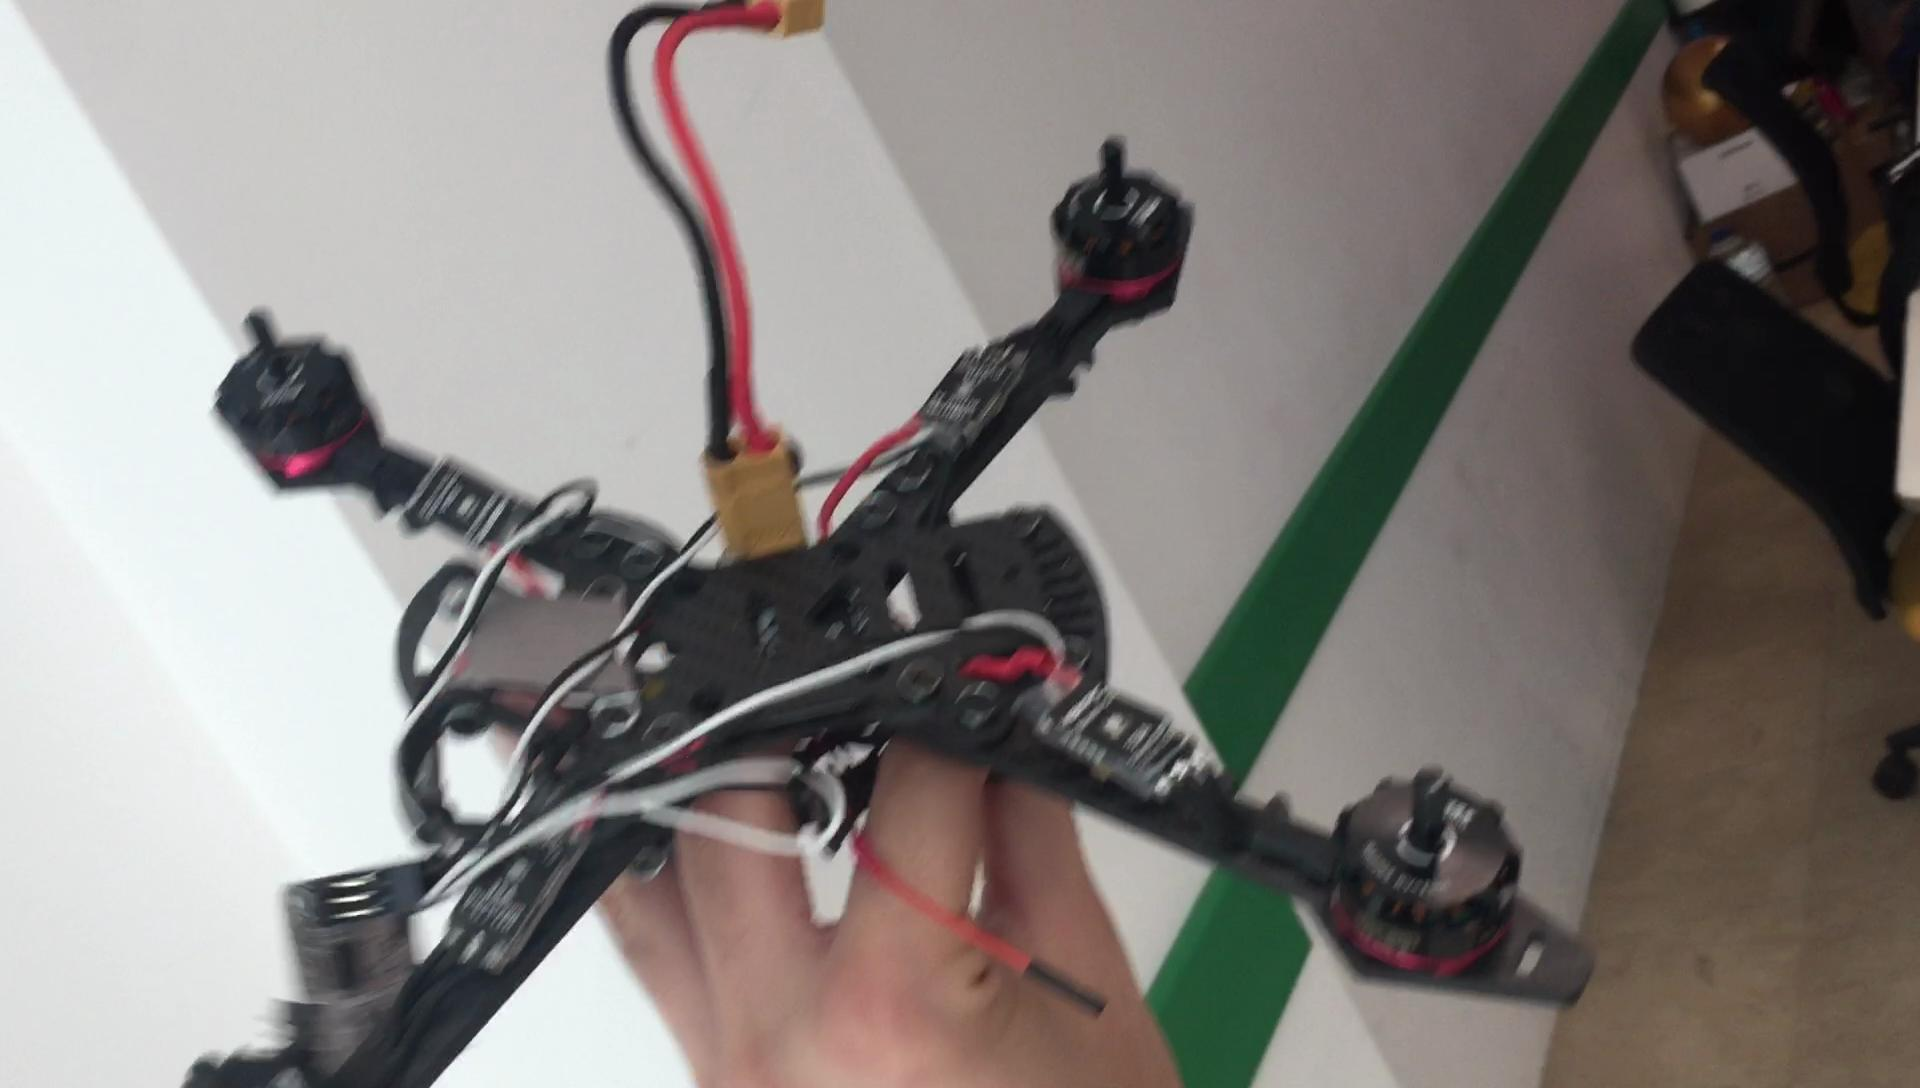drone: (153, 169, 1617, 1088)
